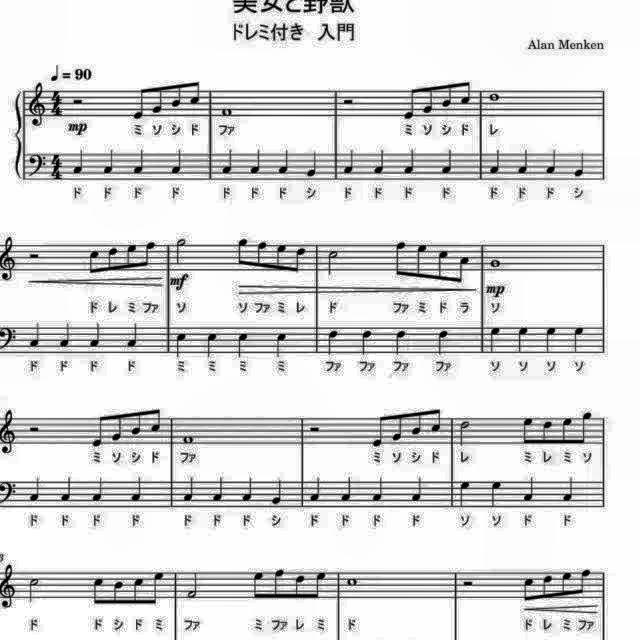Bass-clef: (26, 152, 48, 180), (0, 325, 20, 355), (1, 478, 20, 506)
Eighth-note: (89, 410, 109, 450), (390, 238, 408, 282), (148, 567, 166, 609), (414, 240, 431, 284), (402, 83, 420, 121), (89, 572, 107, 608), (251, 566, 269, 602), (369, 412, 387, 448), (454, 254, 472, 288), (436, 247, 452, 285), (272, 566, 288, 604), (132, 83, 148, 121), (578, 408, 594, 446), (86, 246, 104, 278), (520, 412, 536, 448), (130, 573, 146, 607), (273, 240, 289, 274), (390, 409, 406, 443), (312, 569, 328, 603), (234, 235, 250, 268), (110, 578, 126, 610), (558, 415, 574, 447), (142, 238, 158, 270), (168, 80, 184, 112), (410, 406, 426, 438), (420, 84, 436, 116), (440, 79, 456, 111), (129, 406, 145, 438), (124, 242, 140, 274), (292, 570, 308, 602), (576, 566, 592, 598), (428, 404, 444, 436), (520, 574, 536, 606), (292, 242, 308, 274), (458, 76, 474, 108), (148, 404, 164, 436), (186, 76, 202, 108), (538, 419, 554, 449), (538, 572, 554, 602), (558, 569, 574, 599), (110, 409, 124, 443), (254, 238, 268, 270), (150, 84, 164, 116), (106, 244, 120, 276)
Full-note: (344, 572, 362, 588), (179, 430, 197, 446), (488, 254, 504, 270), (487, 89, 503, 105), (218, 104, 234, 120)
Half-note: (182, 568, 202, 602), (456, 418, 474, 450), (25, 574, 43, 606), (324, 249, 341, 279), (172, 236, 188, 266)
Half-rest: (25, 420, 45, 436), (340, 95, 358, 109), (459, 575, 476, 589), (26, 248, 42, 262), (308, 422, 324, 434), (70, 97, 86, 107)
Quarter-note: (486, 324, 504, 356), (439, 146, 457, 178), (540, 324, 558, 356), (515, 324, 533, 356), (125, 321, 143, 352), (172, 331, 190, 362), (455, 478, 473, 509), (487, 478, 505, 509), (170, 146, 187, 178), (560, 475, 578, 505), (217, 147, 235, 177), (90, 475, 108, 505), (357, 328, 375, 358), (26, 475, 44, 505), (368, 475, 386, 505), (486, 148, 504, 178), (435, 326, 453, 356), (23, 321, 41, 351), (304, 150, 322, 180), (404, 146, 421, 177), (570, 324, 586, 356), (270, 476, 286, 508), (570, 150, 586, 182), (324, 328, 341, 358), (180, 475, 197, 505), (203, 330, 220, 360), (409, 475, 426, 505), (235, 330, 252, 360), (392, 327, 408, 358), (132, 147, 148, 177), (130, 475, 146, 505), (88, 321, 104, 351), (522, 475, 538, 505), (70, 147, 86, 177), (306, 476, 322, 506), (101, 147, 117, 177), (342, 146, 358, 176), (276, 147, 292, 177), (274, 330, 290, 360), (210, 476, 226, 506), (248, 148, 264, 178), (58, 475, 74, 505), (340, 476, 356, 506), (238, 475, 254, 505), (372, 147, 388, 177), (544, 147, 560, 177), (516, 148, 532, 178), (58, 322, 74, 351)
Treble-clef: (25, 82, 47, 130), (0, 406, 20, 458), (0, 233, 20, 283), (1, 560, 20, 612)
